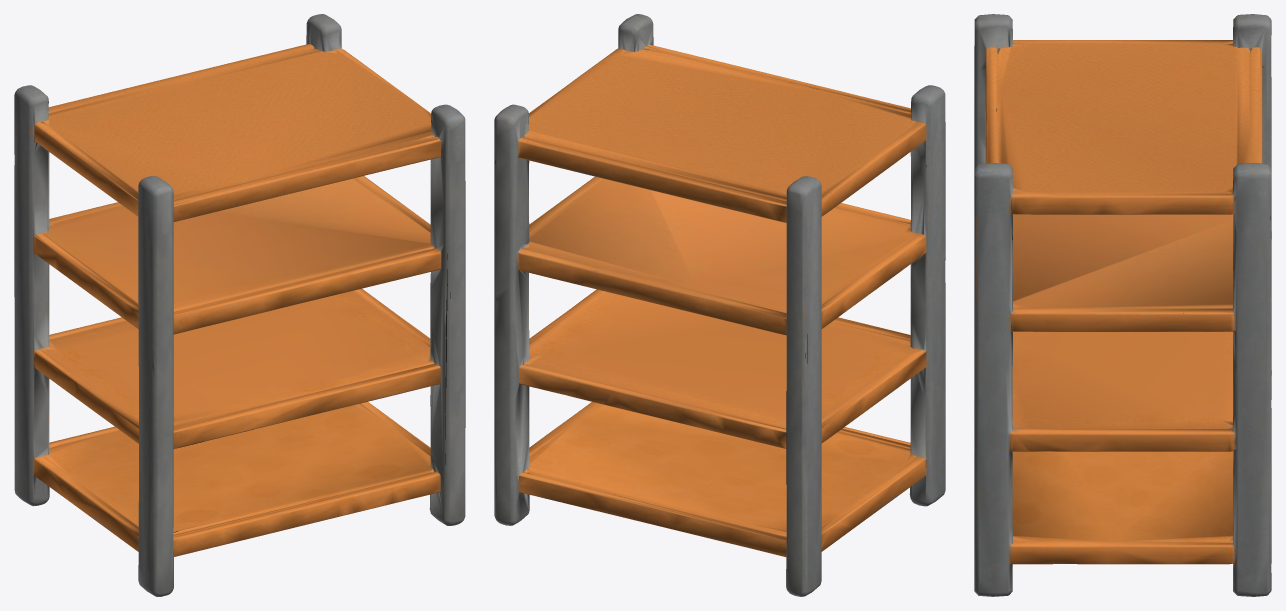
The model's file is shelf_unit.glb.
3 renders of one model, left to right at view 1: azimuth 30°, elevation 25°; view 2: azimuth 150°, elevation 25°; view 3: azimuth 270°, elevation 25°, orthographic. The views are drawn at different scales.
Parts seen in each view (by area): view 1: shelf_unit; view 2: shelf_unit; view 3: shelf_unit.
Part boxes in pixels (bbox=[...]): shelf_unit: bbox=[14, 14, 465, 596]; shelf_unit: bbox=[494, 14, 945, 596]; shelf_unit: bbox=[974, 14, 1271, 596].
Bounding box in the file's own units: 1.28 × 1.6 × 1.
Materials: 1 (1 with a texture image).
